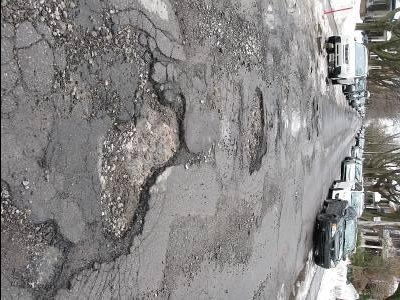pothole: (99, 75, 192, 246), (20, 216, 72, 293), (241, 85, 266, 173)
